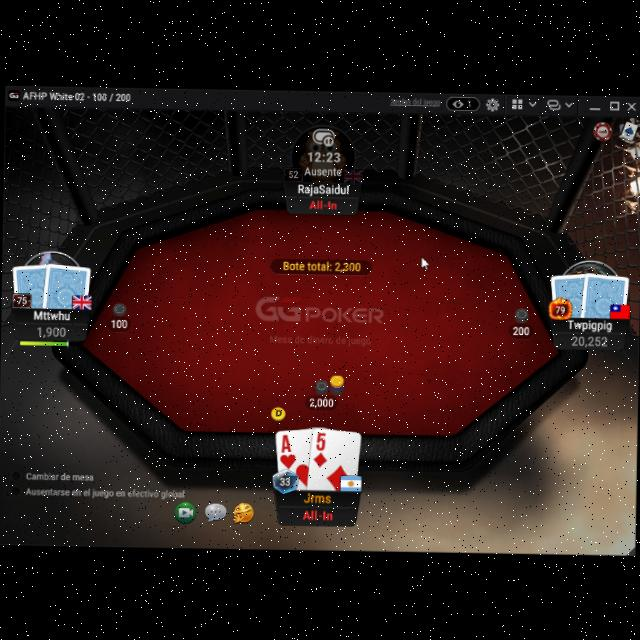5d: (310, 428, 332, 468)
Ah: (277, 431, 298, 468)
all_in_symbol: (300, 505, 334, 523), (307, 196, 338, 210)
bet_text: (307, 394, 334, 408), (109, 314, 129, 328), (511, 322, 531, 335)
card_back: (578, 268, 630, 320), (41, 260, 92, 310), (548, 270, 592, 320), (10, 259, 55, 307)
dealer: (269, 402, 288, 420)
pot_text: (281, 258, 363, 270)
stack_text: (570, 332, 608, 347), (36, 322, 68, 338)
